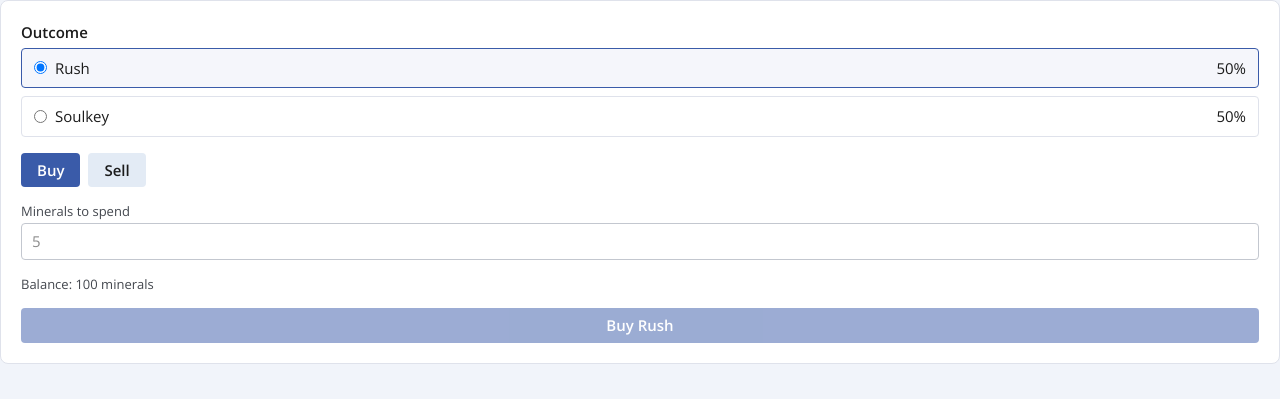
it: TradePanel › only lets you sell shares you hold
Click the button "Sell" at (117, 170), box x1=88 y1=152 x2=146 y2=187
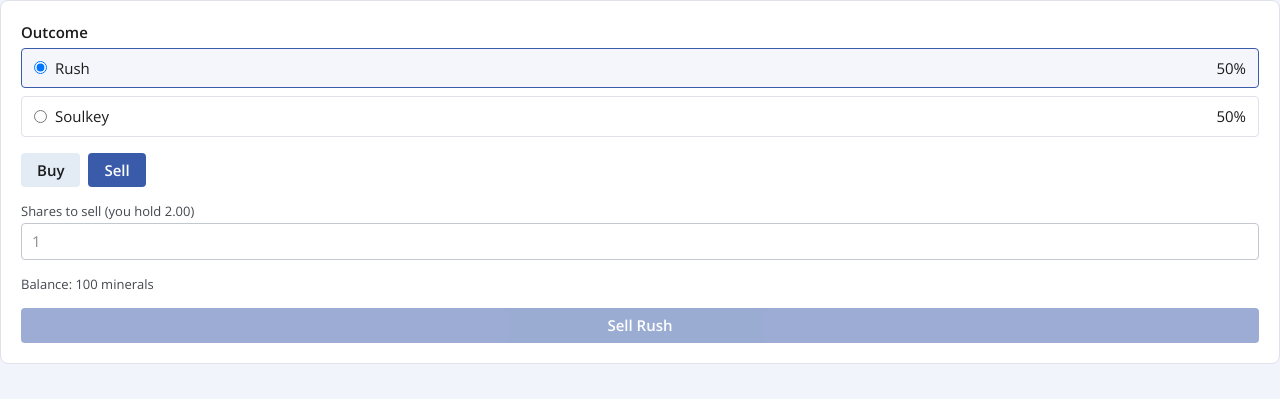
Type "3" into the field labelled "Shares to sell (you hold 2.00)" at (640, 242), box x1=21 y1=223 x2=1259 y2=260
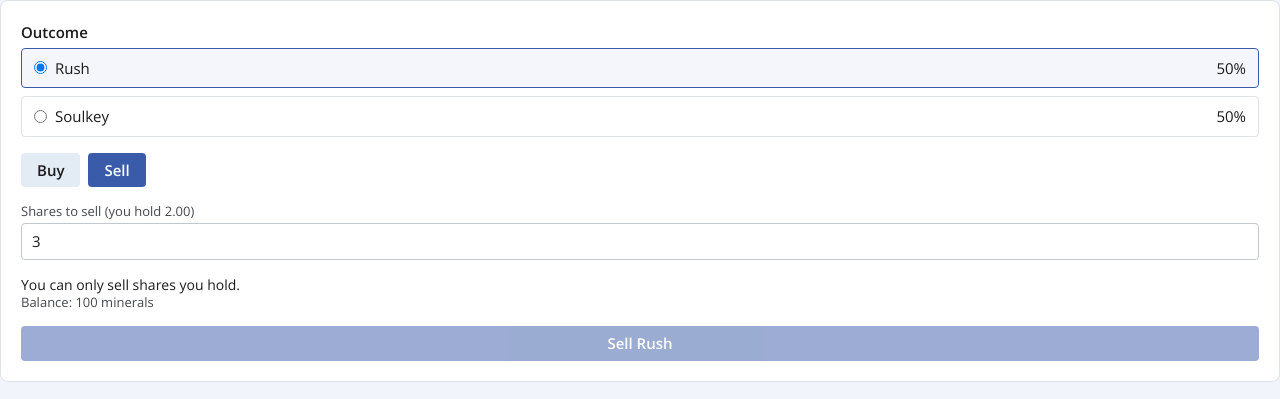
Expected: the button "Sell Rush" is disabled, x1=21 y1=326 x2=1259 y2=361
Expected: the text "You can only sell shares you hold." is shown, x1=21 y1=275 x2=240 y2=294
